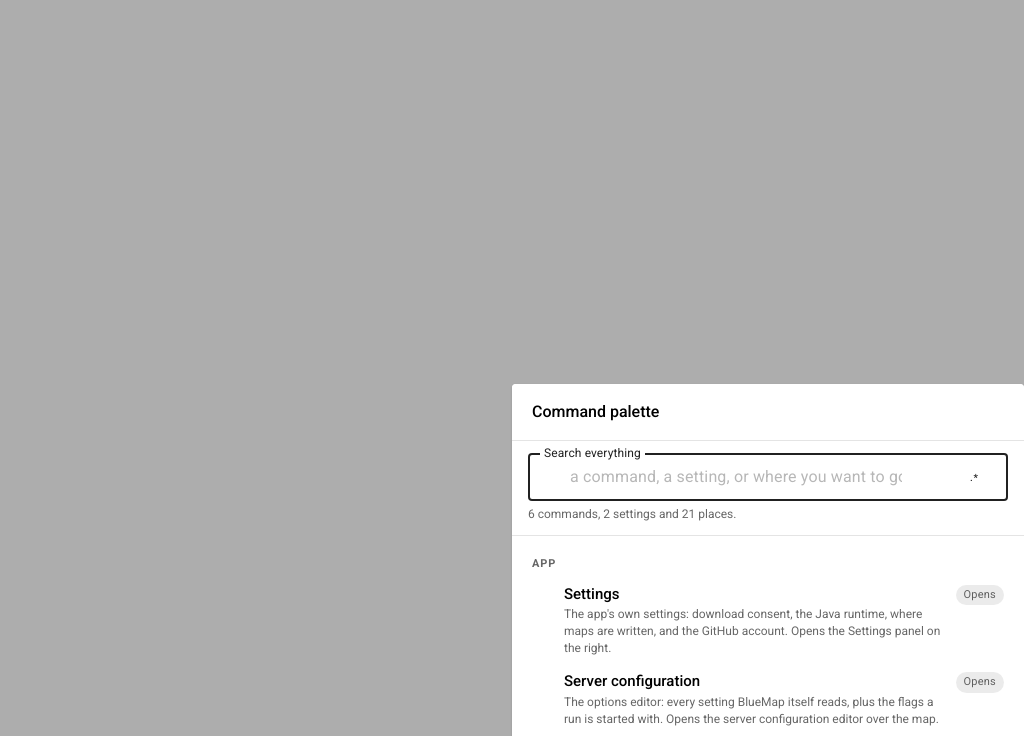
searching › says so plainly when nothing matches, rather than showing an empty list
Type "zzzz no such thing zzzz" into the search field labelled "Search everything" at (736, 477), box [564,453,908,501]
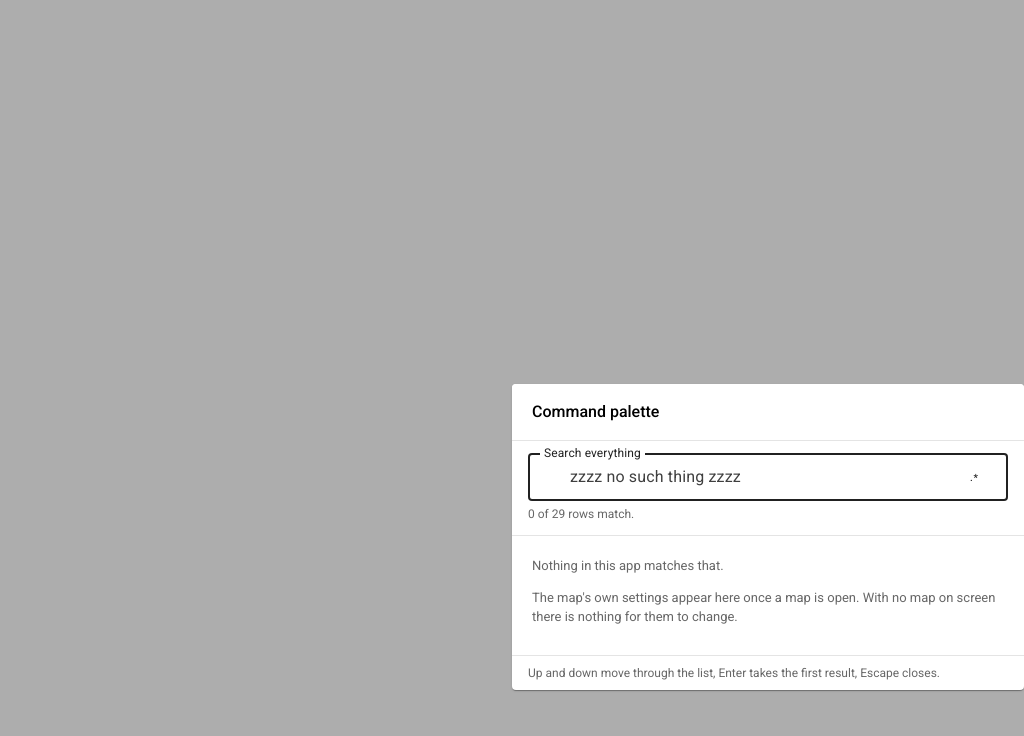
Expected: the text "Nothing in this app matches that." is shown, [532,558,724,573]
